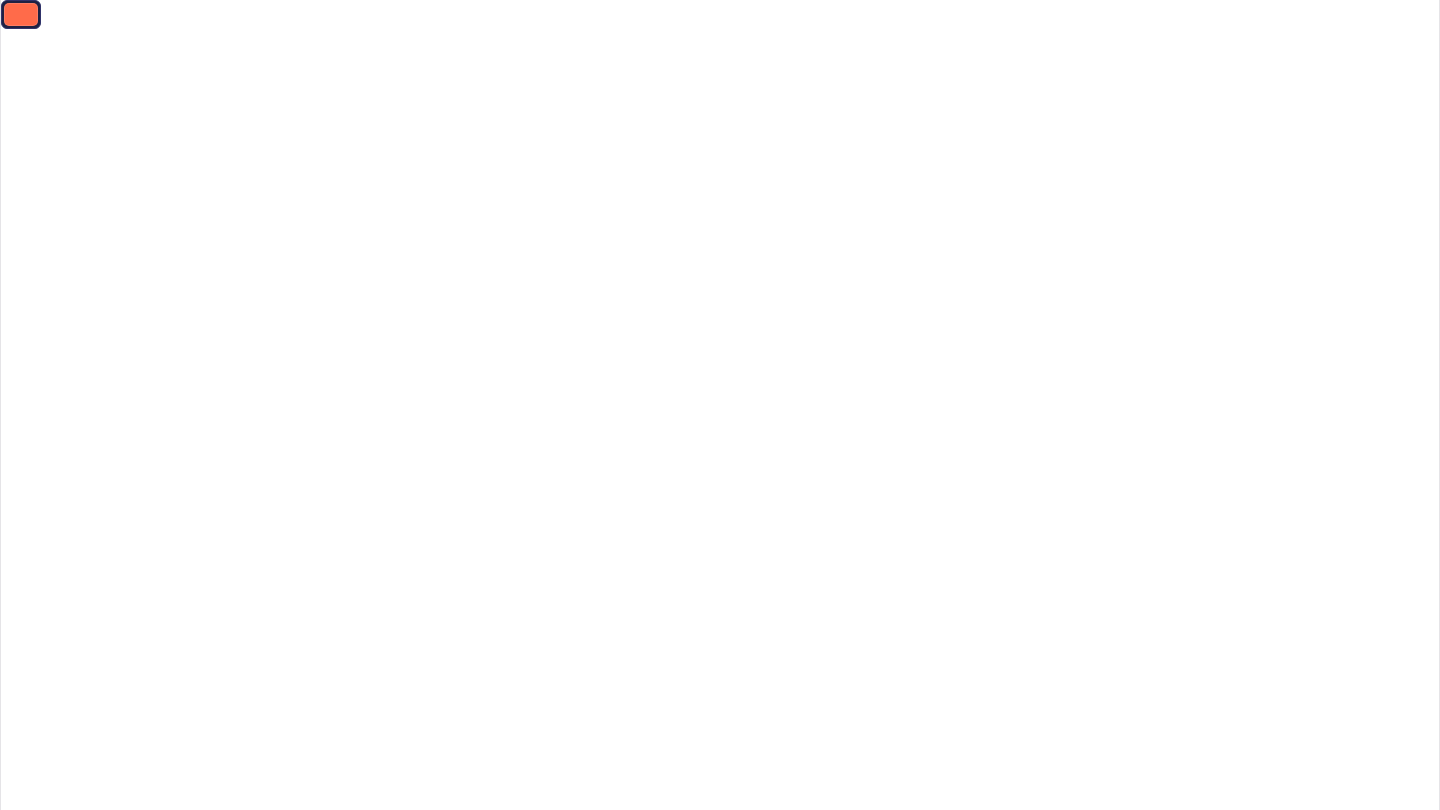
Scenario: ColorPicker › se ferme en cliquant ailleurs, mais pas en cliquant dedans
This screenshot has width=1440, height=810.
Later steps or results of the test are not shown.
Click the button named "Choisir une couleur" at (21, 14), box [1,0,41,29]
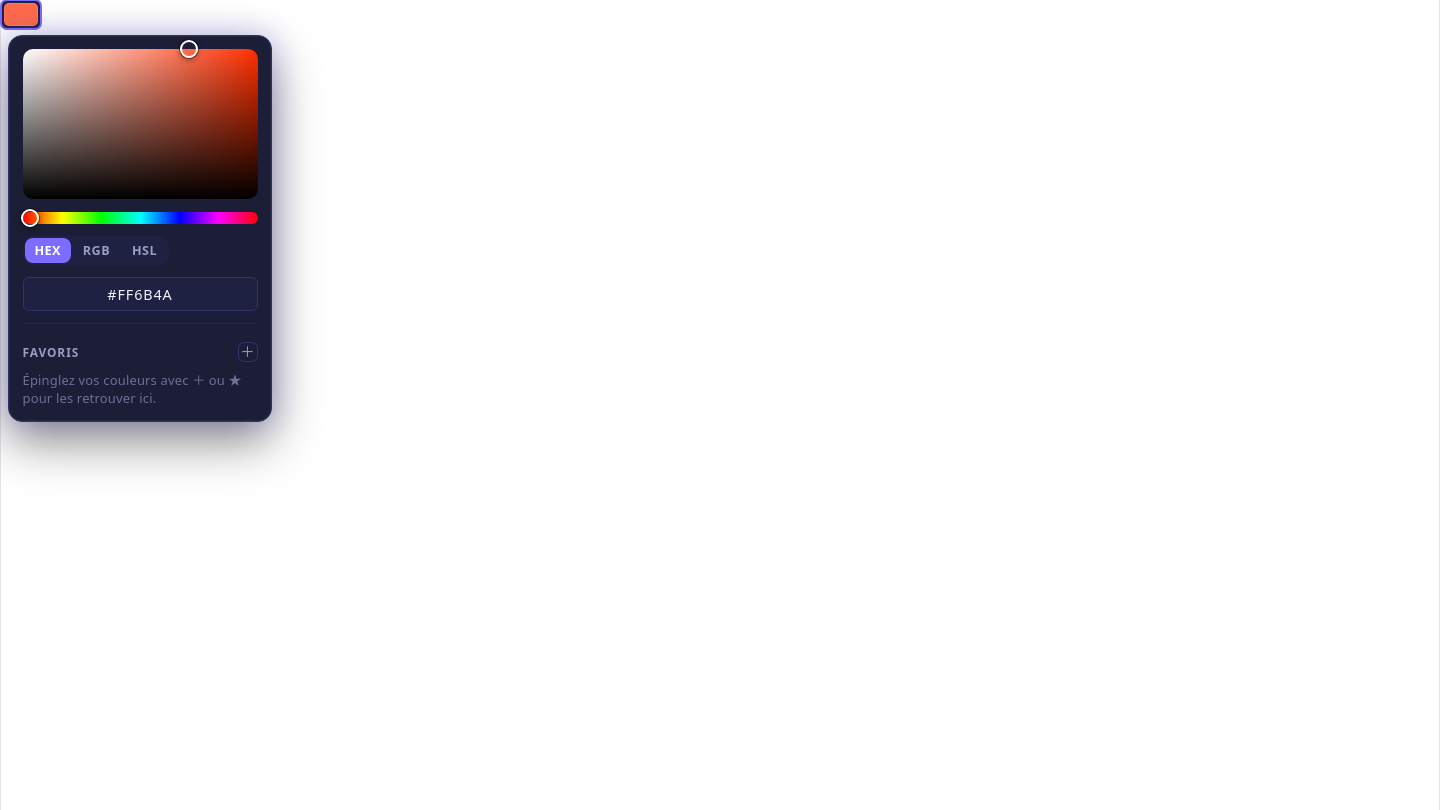
Press the mouse on the dialog named "Sélecteur de couleur" at (140, 228), box [8,35,272,422]
Expected: the dialog named "Sélecteur de couleur" is shown, [8,35,272,422]
